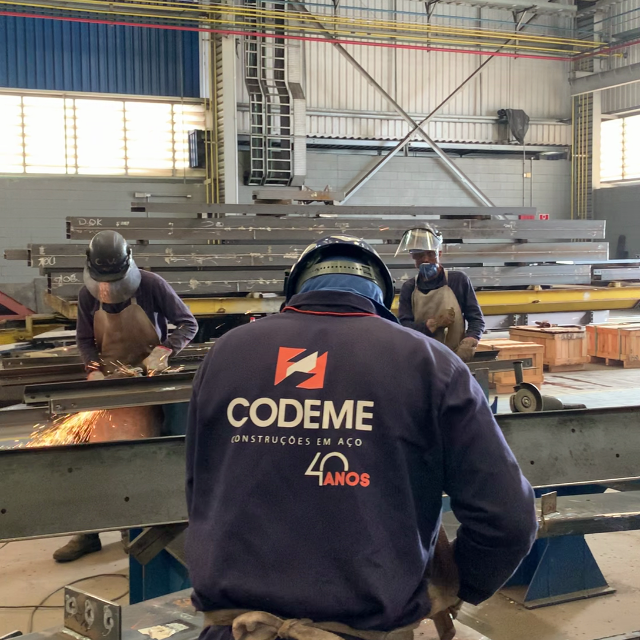face-shield: (80, 253, 140, 307), (396, 229, 442, 253)
glove: (141, 345, 173, 380), (456, 336, 478, 361)
helmet: (283, 235, 397, 313), (87, 229, 134, 284), (87, 229, 130, 283), (400, 220, 435, 238)
person: (190, 236, 547, 640), (78, 228, 200, 384), (393, 220, 484, 365)
